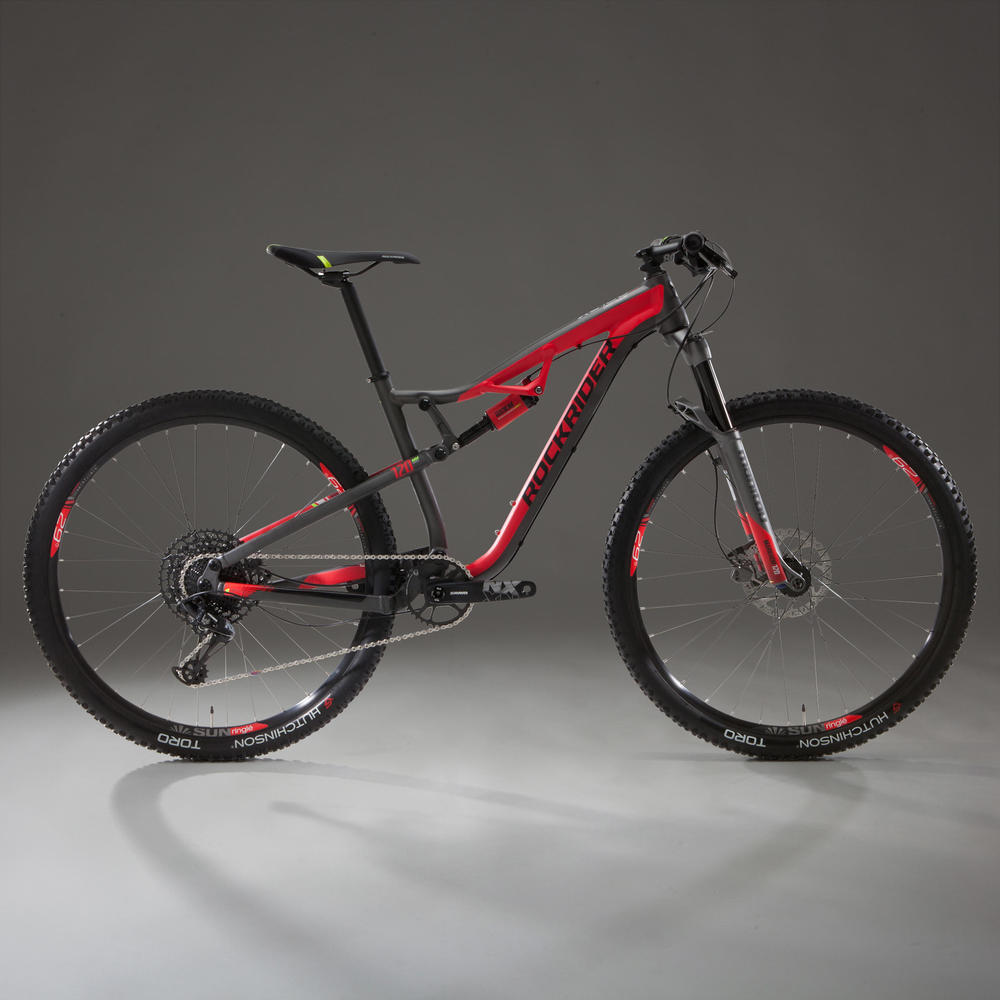RoadBike: (46, 166, 683, 780), (0, 164, 276, 651), (731, 485, 998, 872)
